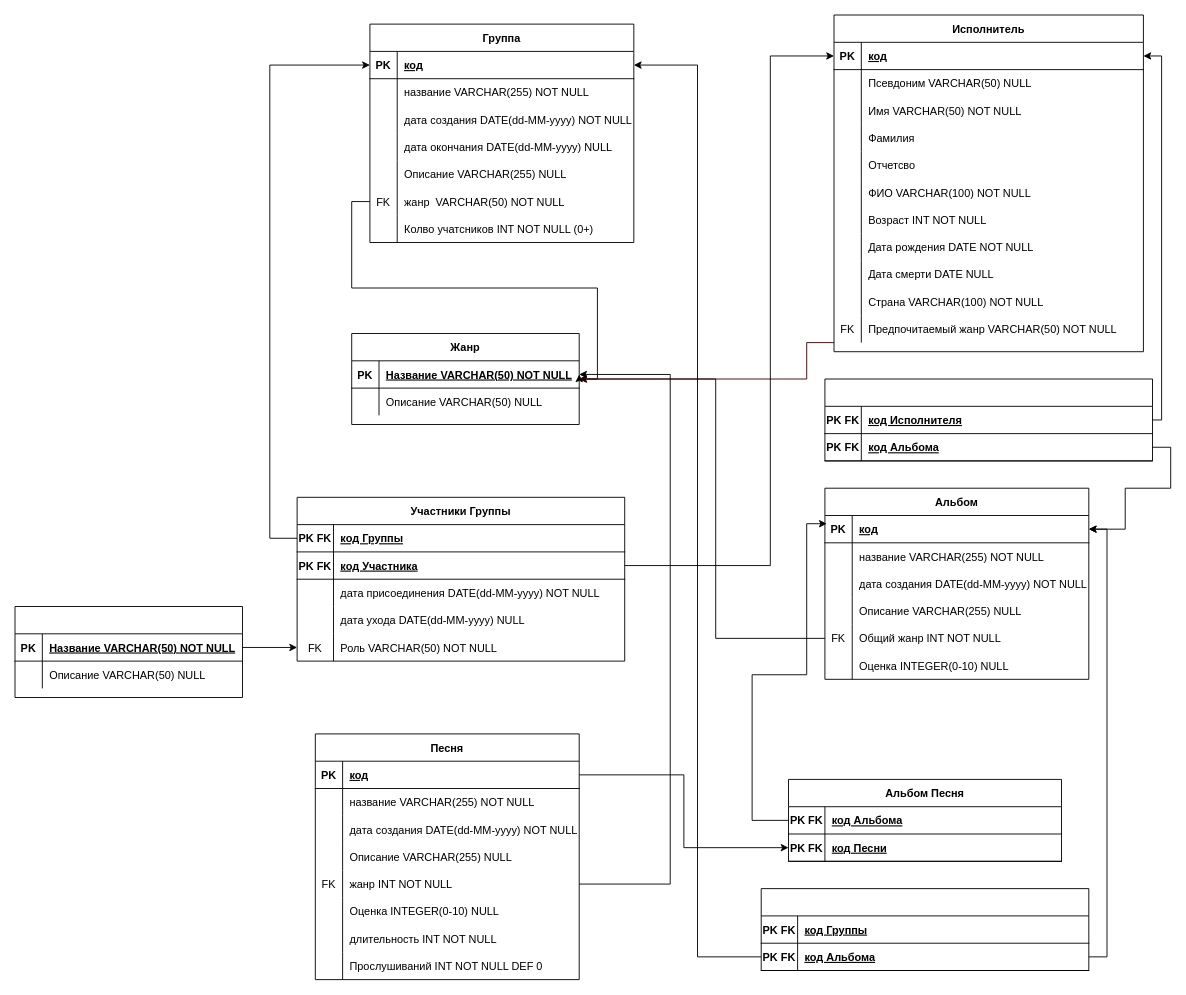
The diagram is 1186 pixels wide and 995 high, and some of its shapes have lost their labels. Each missing label, with the box of its shape:
Группа альбом: (760, 888, 1089, 971)
Исполнитель альбом: (824, 378, 1153, 461)
Роль: (14, 606, 243, 698)
